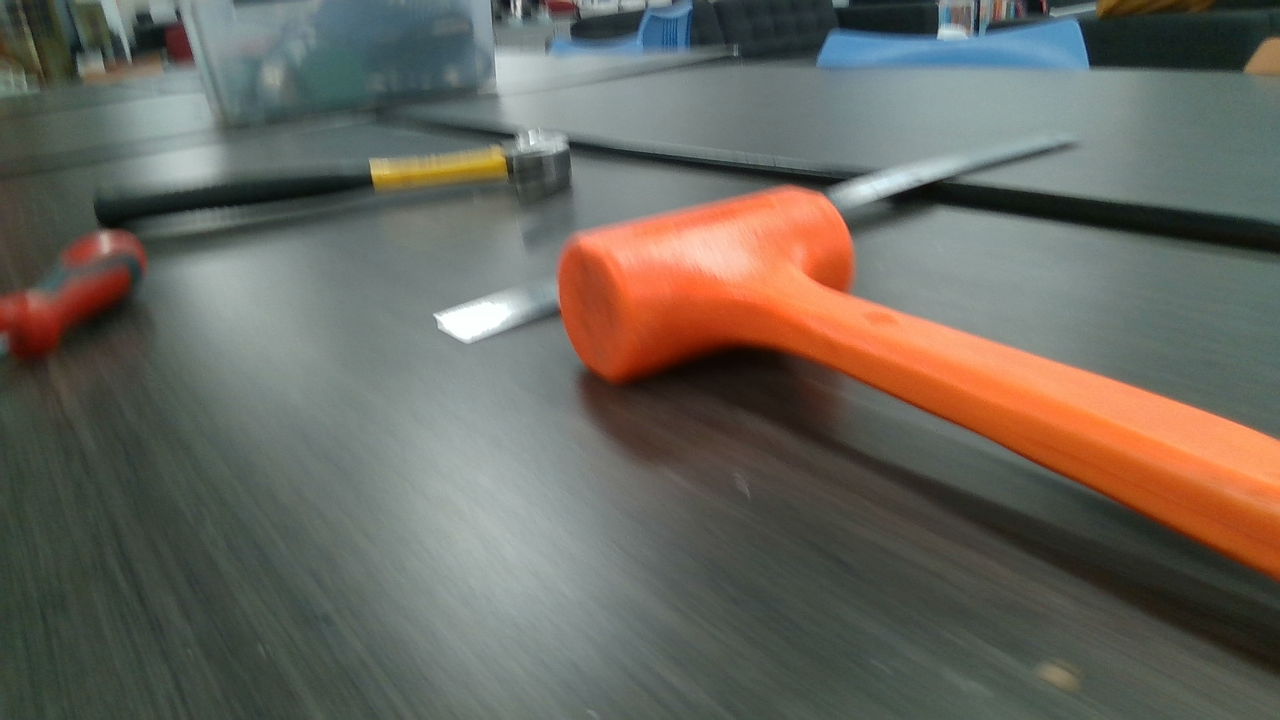Orange Hammer: (557, 182, 1270, 647)
